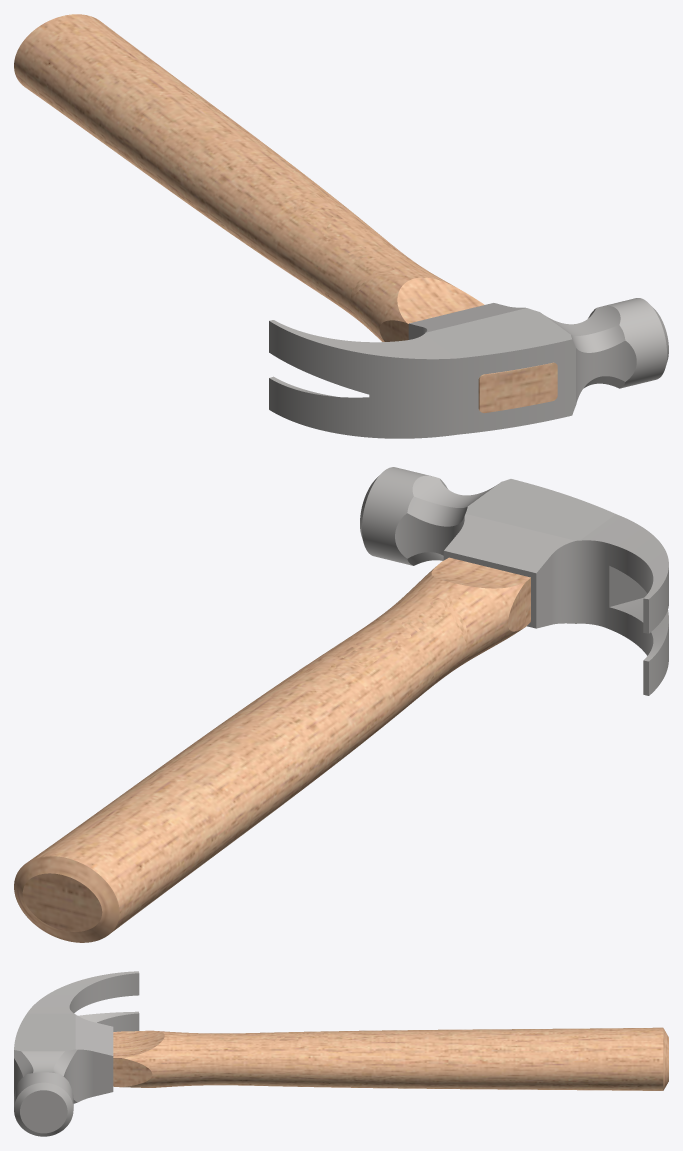
The model's file is _hammer.obj.
3 views of the same model, one above another, from view 1: azimuth 30°, elevation 25°; view 2: azimuth 150°, elevation 25°; view 3: azimuth 270°, elevation 25° (orthographic). The views are drawn at different scales.
Visible parts, largest first — view 1: Solid1, Solid1:1; view 2: Solid1, Solid1:1; view 3: Solid1, Solid1:1.
Part boxes in pixels (x1,y1,x2,y2): Solid1: [14, 14, 557, 413]; Solid1:1: [269, 298, 668, 438]; Solid1: [14, 557, 530, 942]; Solid1:1: [360, 467, 668, 695]; Solid1: [113, 1027, 668, 1090]; Solid1:1: [14, 971, 139, 1136].
Bounding box in the file's own units: 0.13 × 0.035 × 0.33.
